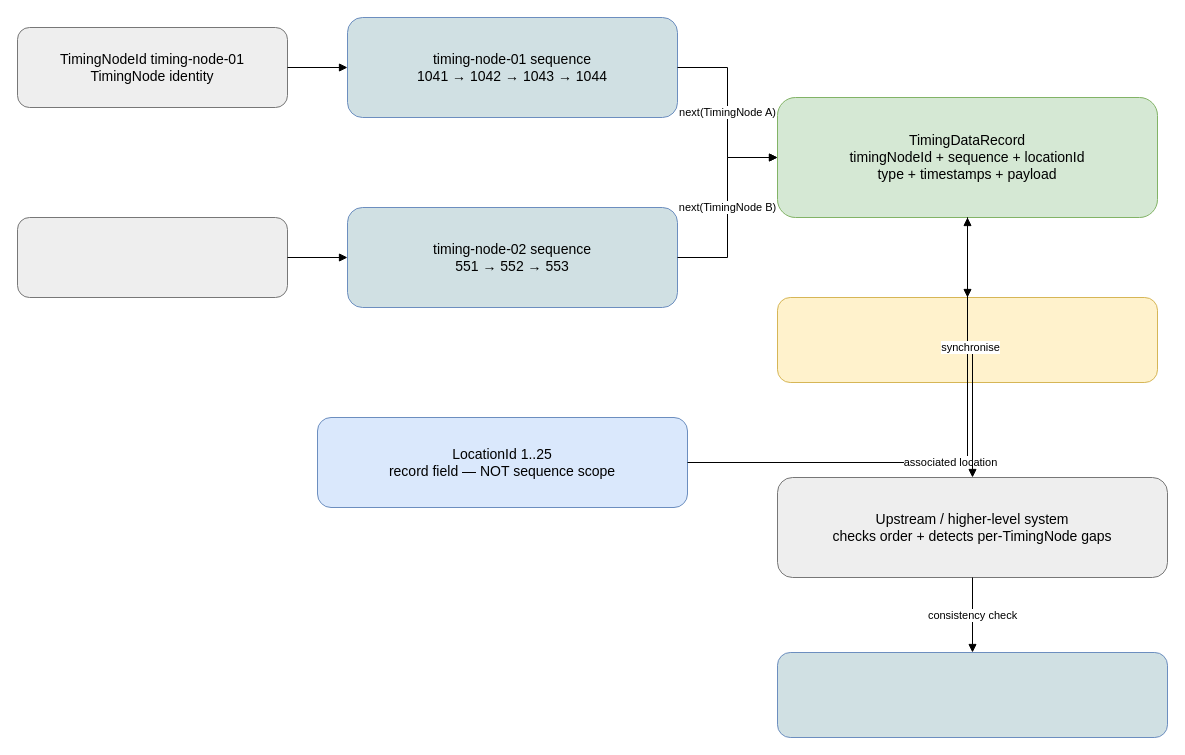
This 1185x755 diagram has some shape labels left out. The shapes that lost their labels are listed below. From the top down, each one's box as (x1, y1, x2, y2) in pixels, then its label:
(16, 216, 288, 298): TimingNodeId timing-node-02 TimingNode identity
(776, 296, 1158, 382): Stable key (TimingNodeId, SequenceNumber)
(776, 652, 1168, 738): Example gap A: 1041, 1042, 1044 → 1043 missing
